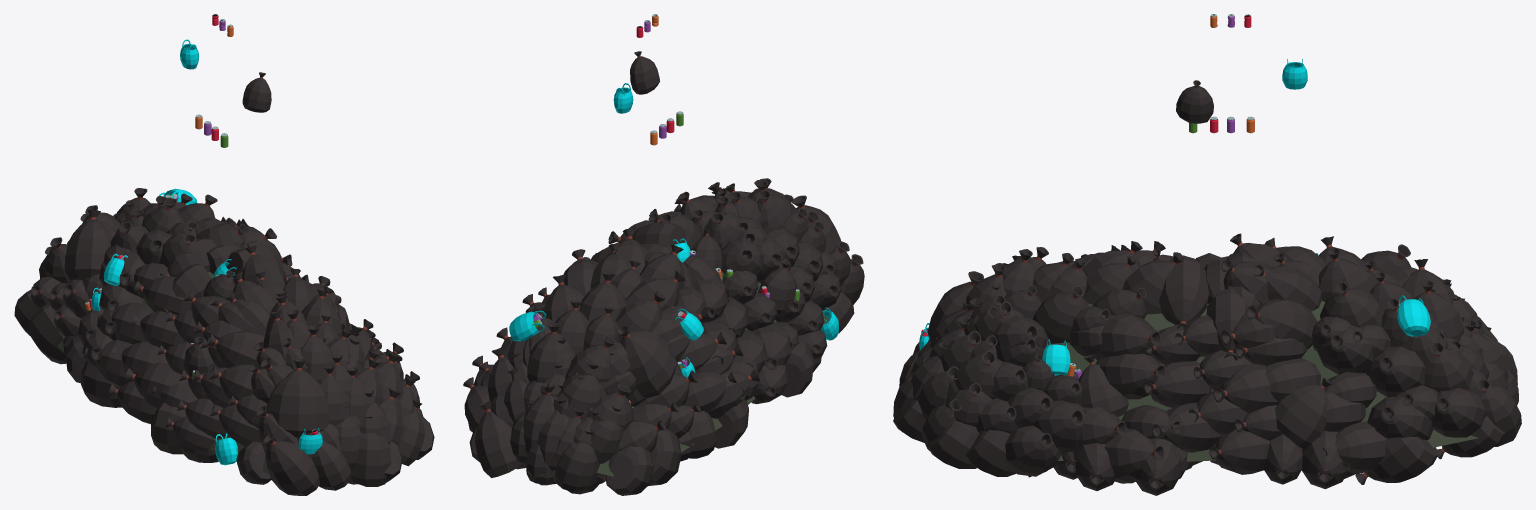
Rendered from trash.fbx.
The picture shows the model from 3 angles, left to right: view 1: azimuth 30°, elevation 25°; view 2: azimuth 150°, elevation 25°; view 3: azimuth 270°, elevation 25°; orthographic projection. The views are drawn at different scales.
Parts seen in each view (by area): view 1: Sphere.011, Sphere.042, Sphere.014, Sphere.216, Sphere.122, Sphere.134, Sphere.245, Sphere.266, Sphere.132, Sphere.137, Sphere.256, Sphere.133 (+64 smaller); view 2: Sphere.014, Sphere.026, Sphere.246, Sphere.226, Sphere.231, Sphere.187, Sphere.223, Sphere.245, Sphere.241, Sphere.059, Sphere.140, Sphere.058 (+69 smaller); view 3: Cube, Sphere.016, Sphere.179, Sphere.069, Sphere.093, Sphere.094, Sphere.036, Sphere.113, Sphere.112, Sphere.064, Sphere.107, Sphere.096 (+76 smaller).
Part boxes in pixels (x1,y1,x2,y2): Sphere.011: (266, 359, 329, 437); Sphere.042: (263, 433, 319, 495); Sphere.014: (64, 210, 113, 281); Sphere.216: (350, 416, 390, 486); Sphere.122: (206, 330, 264, 368); Sphere.134: (125, 362, 188, 407); Sphere.245: (28, 303, 66, 364); Sphere.266: (312, 441, 350, 490); Sphere.132: (134, 276, 191, 315); Sphere.137: (97, 302, 153, 344); Sphere.256: (151, 402, 186, 454); Sphere.133: (132, 311, 184, 349); Sphere.014: (616, 325, 676, 398); Sphere.026: (475, 401, 524, 477); Sphere.246: (604, 446, 653, 495); Sphere.226: (554, 428, 600, 491); Sphere.231: (527, 322, 575, 382); Sphere.187: (579, 271, 626, 322); Sphere.223: (561, 359, 606, 419); Sphere.245: (648, 429, 681, 485); Sphere.241: (565, 335, 616, 382); Sphere.059: (615, 290, 666, 342); Sphere.140: (684, 371, 736, 412); Sphere.058: (721, 238, 764, 279); Cube: (1047, 300, 1478, 461); Sphere.016: (1275, 377, 1331, 449); Sphere.179: (1159, 255, 1208, 328); Sphere.069: (1355, 436, 1438, 484); Sphere.093: (1365, 346, 1425, 397); Sphere.094: (1432, 388, 1487, 437); Sphere.036: (1005, 425, 1061, 476); Sphere.113: (1096, 353, 1165, 399); Sphere.112: (1095, 313, 1161, 360); Sphere.064: (1246, 299, 1317, 349); Sphere.107: (1143, 361, 1212, 407); Sphere.096: (1322, 421, 1386, 473).
Bounding box in the file's own units: 1455 × 2079 × 2761.
